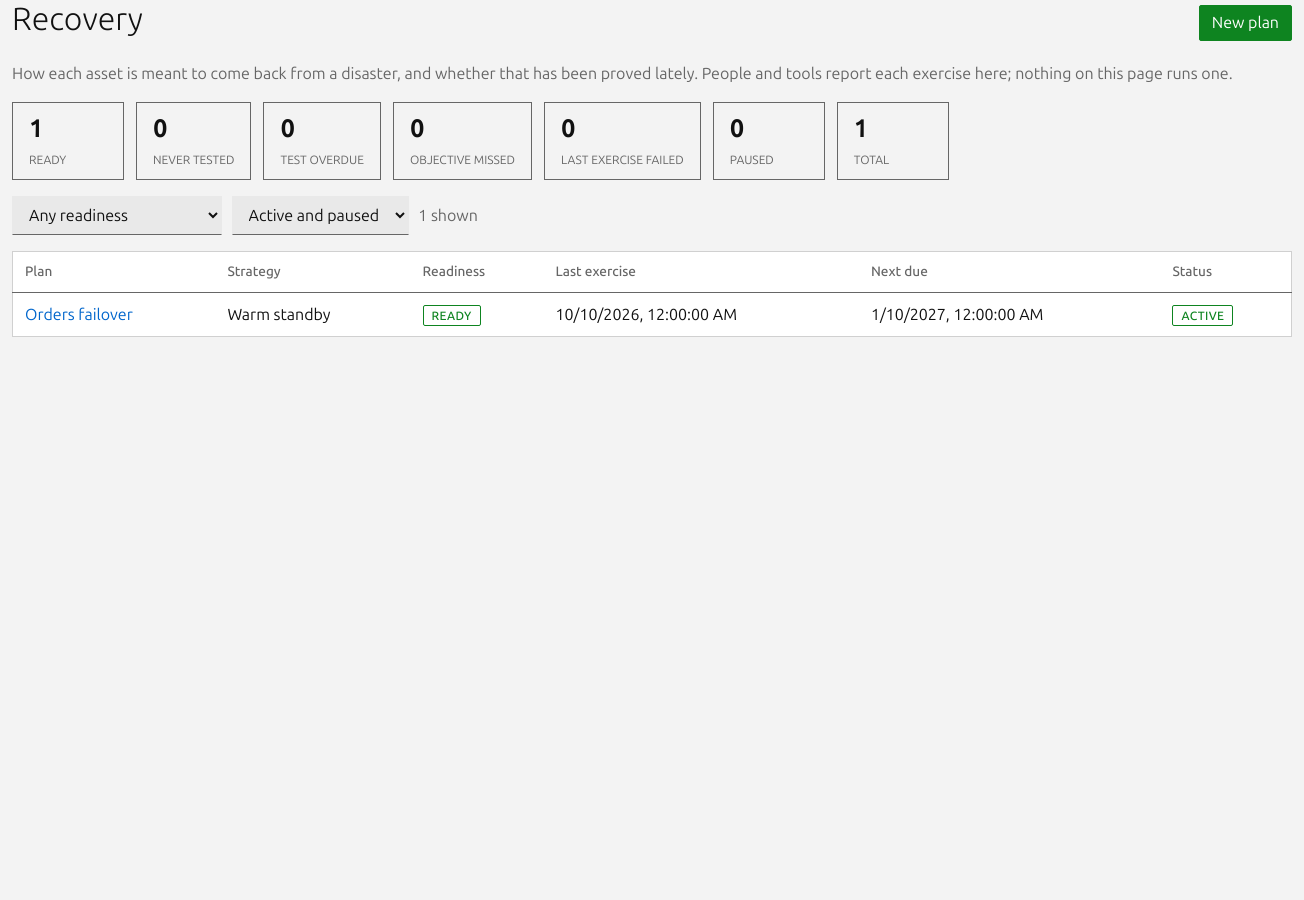
a plan in detail › shows the promise, the measured recovery, the exercises with their reason and who reported them, and the history
Step 1. Click the button "Orders failover" → (79, 315), box x1=25 y1=303 x2=133 y2=327
(page scrolled)
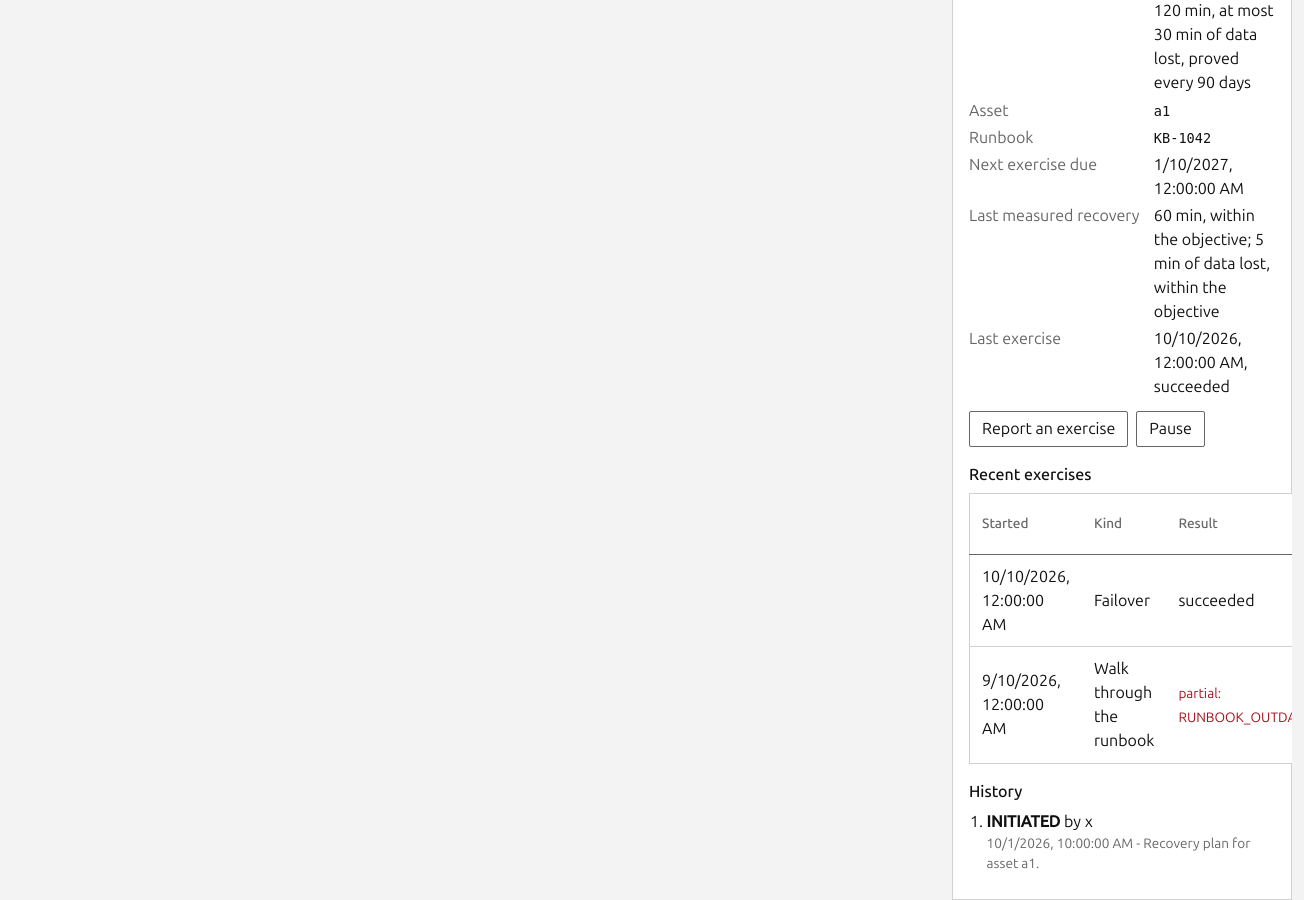
expect the text "KB-1042" is shown: met, box x1=1154 y1=130 x2=1211 y2=146
expect the text "60 min, within the objective; 5 min of data lost, within the objective" is shown: met, box x1=1154 y1=204 x2=1275 y2=324
expect the text "Walk through the runbook" is shown: met, box x1=1082 y1=647 x2=1166 y2=763
